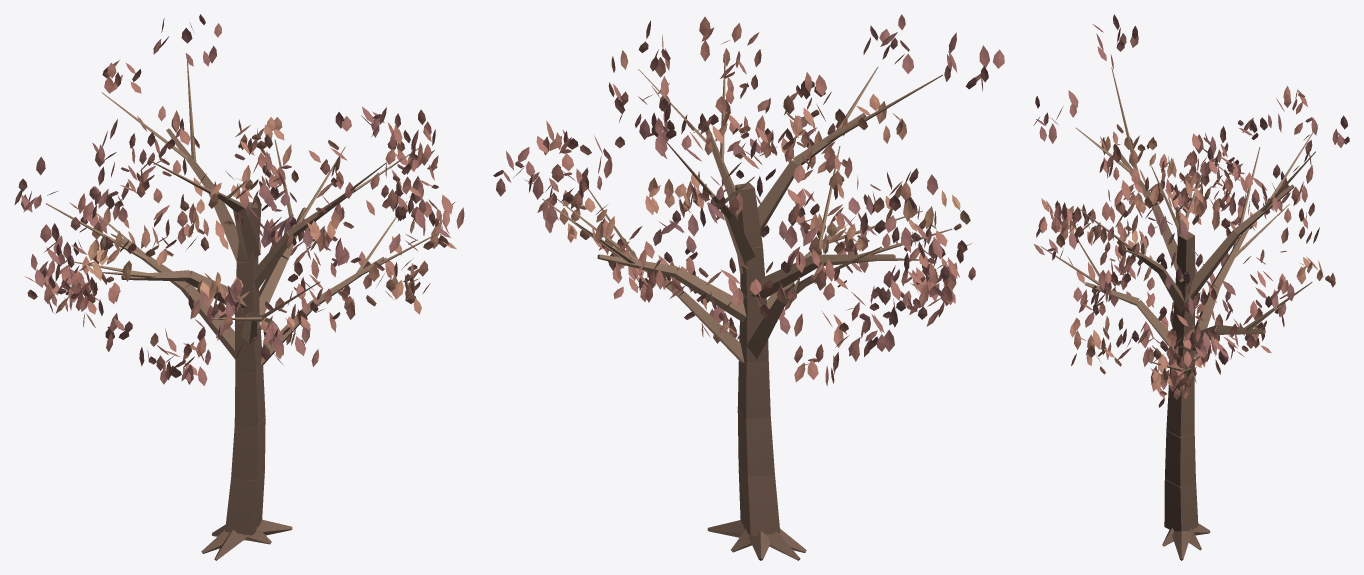
Rendered from tree_3d_05_red.glb.
The picture shows the model from 3 angles, left to right: view 1: azimuth 30°, elevation 25°; view 2: azimuth 150°, elevation 25°; view 3: azimuth 270°, elevation 25°; orthographic projection. The views are drawn at different scales.
Parts seen in each view (by area): view 1: tree_3d_05_red_foliage, tree_3d_05_red_wood; view 2: tree_3d_05_red_foliage, tree_3d_05_red_wood; view 3: tree_3d_05_red_foliage, tree_3d_05_red_wood.
Part boxes in pixels (bbox=[...]): tree_3d_05_red_foliage: bbox=[14, 14, 464, 385]; tree_3d_05_red_wood: bbox=[46, 61, 439, 560]; tree_3d_05_red_foliage: bbox=[493, 14, 1004, 386]; tree_3d_05_red_wood: bbox=[542, 50, 952, 560]; tree_3d_05_red_foliage: bbox=[1033, 14, 1349, 407]; tree_3d_05_red_wood: bbox=[1040, 67, 1318, 560].
Bounding box in the file's own units: 12.5 × 14.5 × 9.2.
